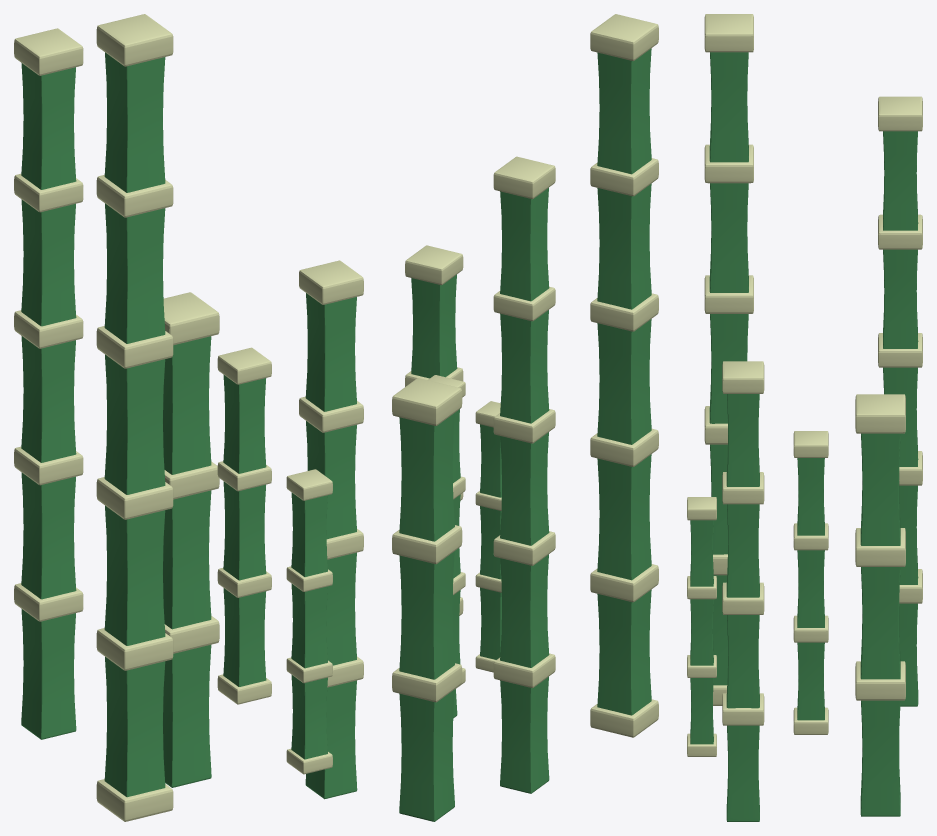
File: Bamboo_Growing.fbx
The picture shows the model from 3 angles, left to right: view 1: azimuth 30°, elevation 25°; view 2: azimuth 150°, elevation 25°; view 3: azimuth 270°, elevation 25°; orthographic projection. The views are drawn at different scales.
Parts seen in each view (by area): view 1: Bamboo_Green, Bamboo_White; view 2: Bamboo_Green, Bamboo_White; view 3: Bamboo_Green, Bamboo_White.
Part boxes in pixels (x1,y1,x2,y2): Bamboo_Green: (21, 52, 357, 799); Bamboo_White: (14, 14, 363, 821); Bamboo_Green: (399, 48, 651, 821); Bamboo_White: (392, 14, 658, 737); Bamboo_Green: (690, 52, 918, 821); Bamboo_White: (687, 14, 922, 756).
Size of the model in its own units: 49.16 by 158 by 46.37.
